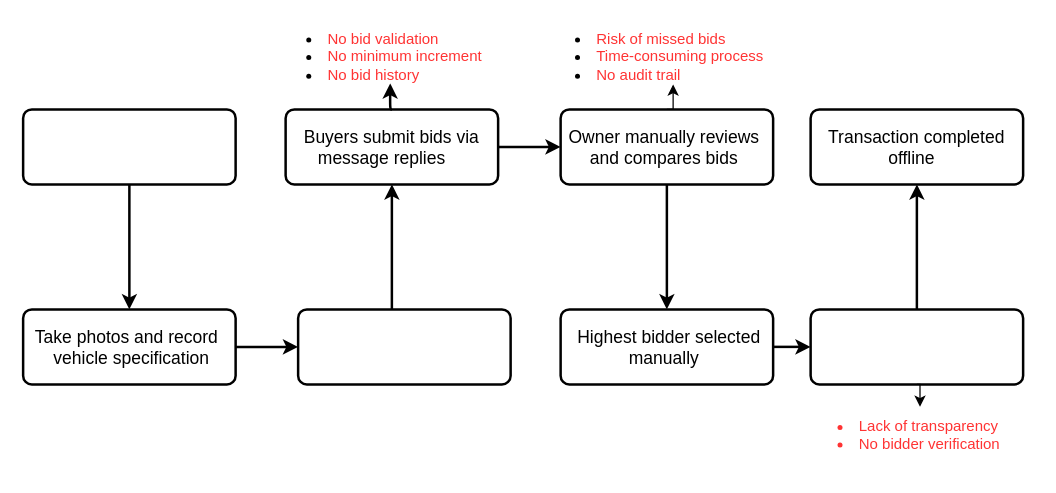
The diagram is 1056 pixels wide and 493 high, and some of its shapes have lost their labels. Here are the shapes that lost their labels. From the top down, the centre of each, then its label:
At (128,146): "Vehicle acquired by owner".
At (403,346): "Share vehicle details via WhatsApp and Facebook".
At (916,346): "Winner notified privately".
